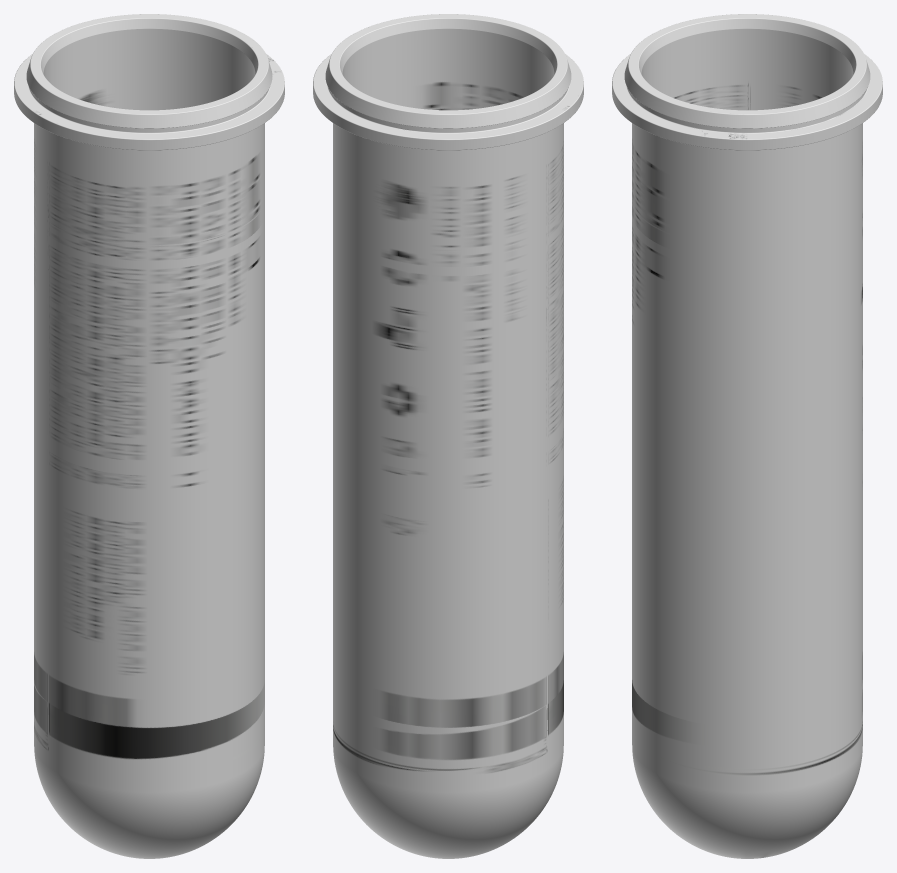
The model's file is ness.glb.
3 views of the same model, side by side, from view 1: azimuth 30°, elevation 25°; view 2: azimuth 150°, elevation 25°; view 3: azimuth 270°, elevation 25° (orthographic).
Parts seen in each view (by area): view 1: NESSIMZOUAOUI_ v5; view 2: NESSIMZOUAOUI_ v5; view 3: NESSIMZOUAOUI_ v5.
Boxes of the visible parts, x1,y1,x2,y2 form: NESSIMZOUAOUI_ v5: (14,14,284,858); NESSIMZOUAOUI_ v5: (313,14,583,858); NESSIMZOUAOUI_ v5: (612,14,882,858).
Size of the model in its own units: 0.0352 by 0.1124 by 0.0352.
1 material, 1 textured.
